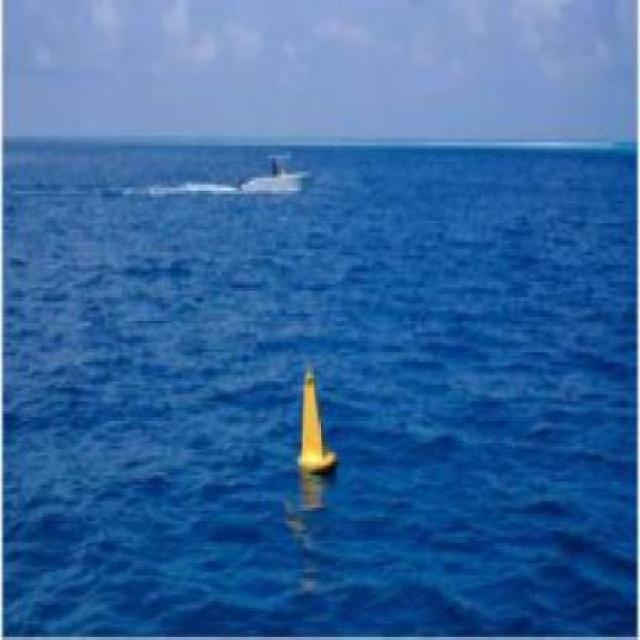a: (289, 347, 344, 480)
